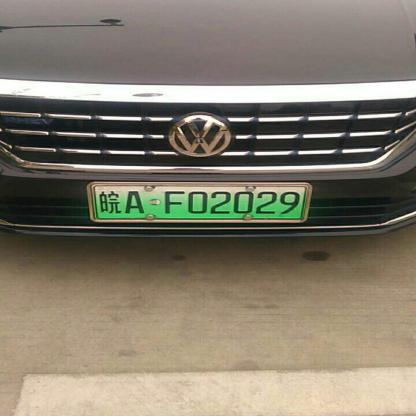lp: (89, 185, 309, 221)
